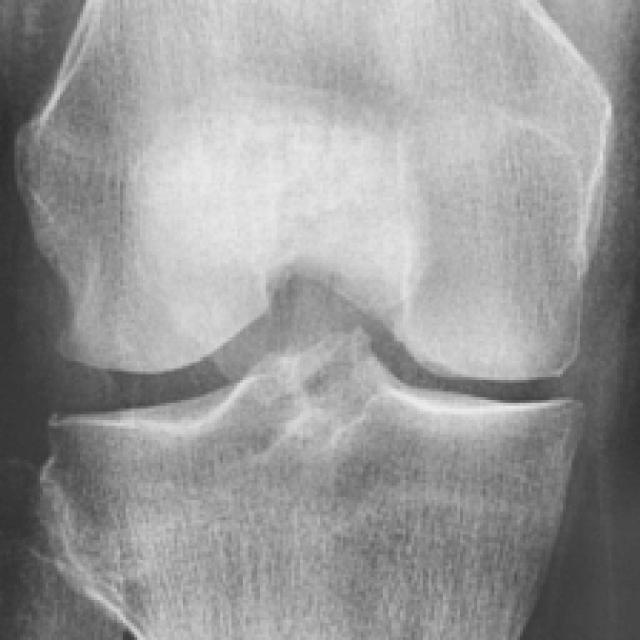femur: (17, 0, 614, 381)
tibia: (32, 329, 584, 640)
